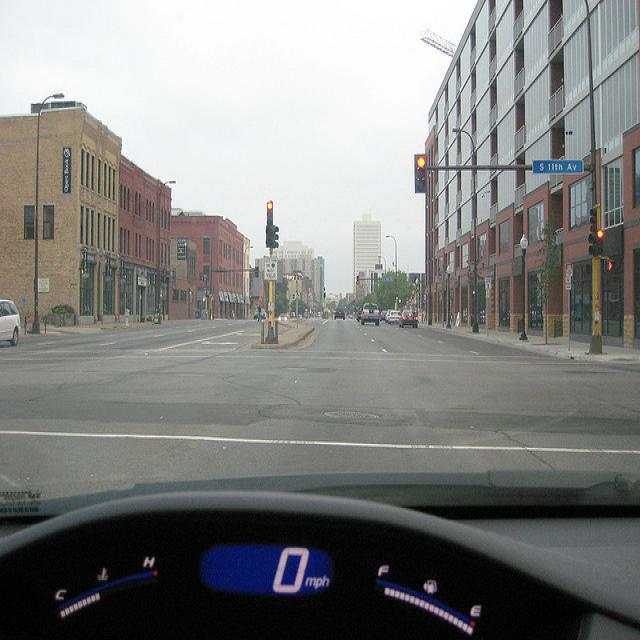Vehicle: (0, 408, 639, 640), (0, 299, 21, 348), (361, 302, 381, 326), (398, 309, 420, 328), (334, 306, 347, 321), (388, 311, 402, 324), (254, 308, 266, 320), (385, 310, 395, 322), (380, 310, 388, 322), (355, 309, 362, 321), (278, 313, 288, 321), (348, 314, 353, 318)
